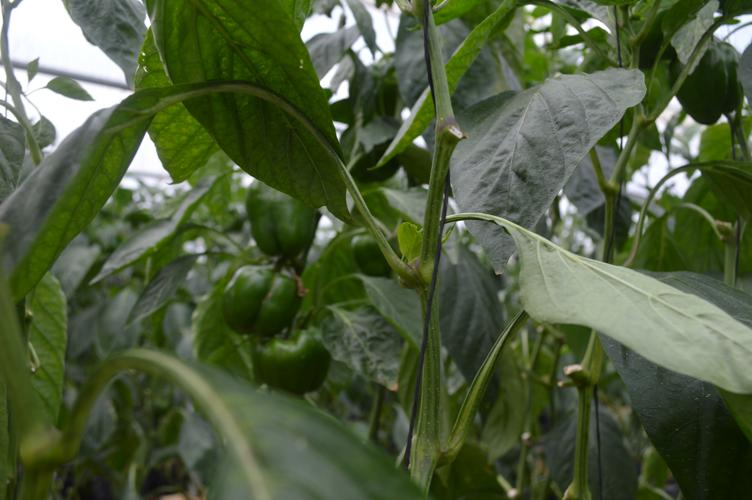BellPepper: (220, 265, 307, 335), (675, 39, 742, 121), (241, 185, 314, 254), (259, 336, 332, 391), (351, 227, 394, 276)
